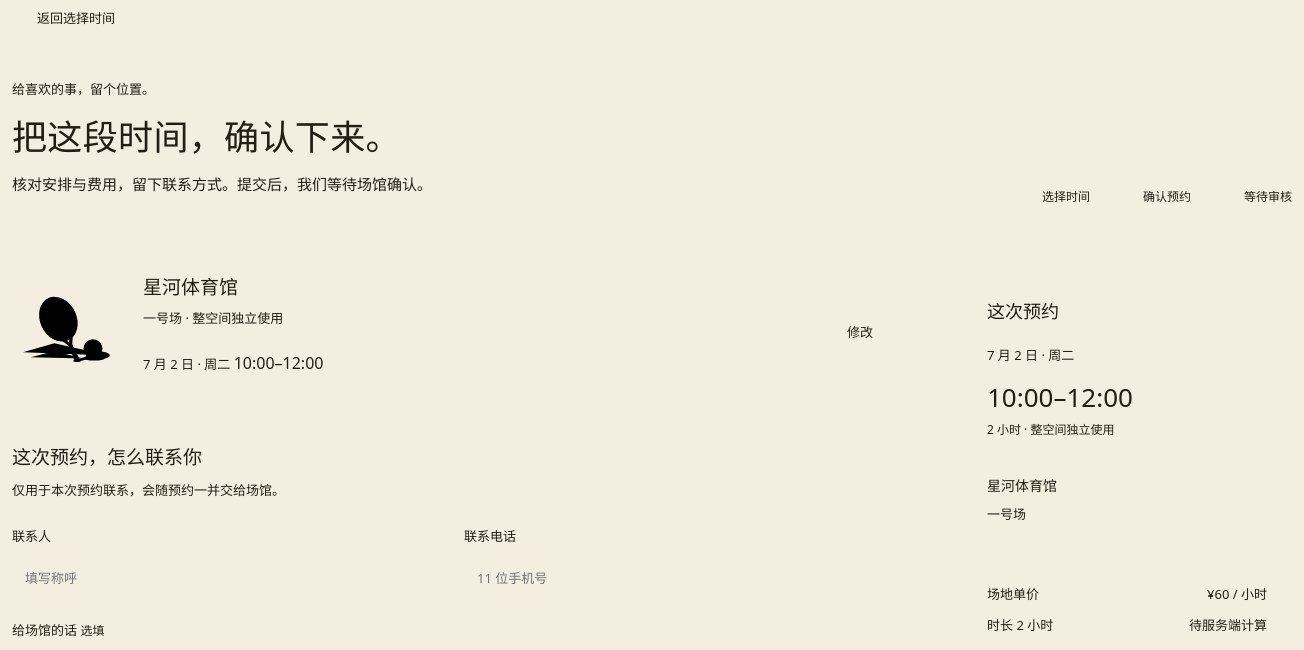
Test: ReservationConfirmView confirmation flow › waits for a valid contact before asking the server for the price
Type "王小明" into the field with test id "contact-name".
click(229, 578); type("王小明")  # box [12,555,446,601]
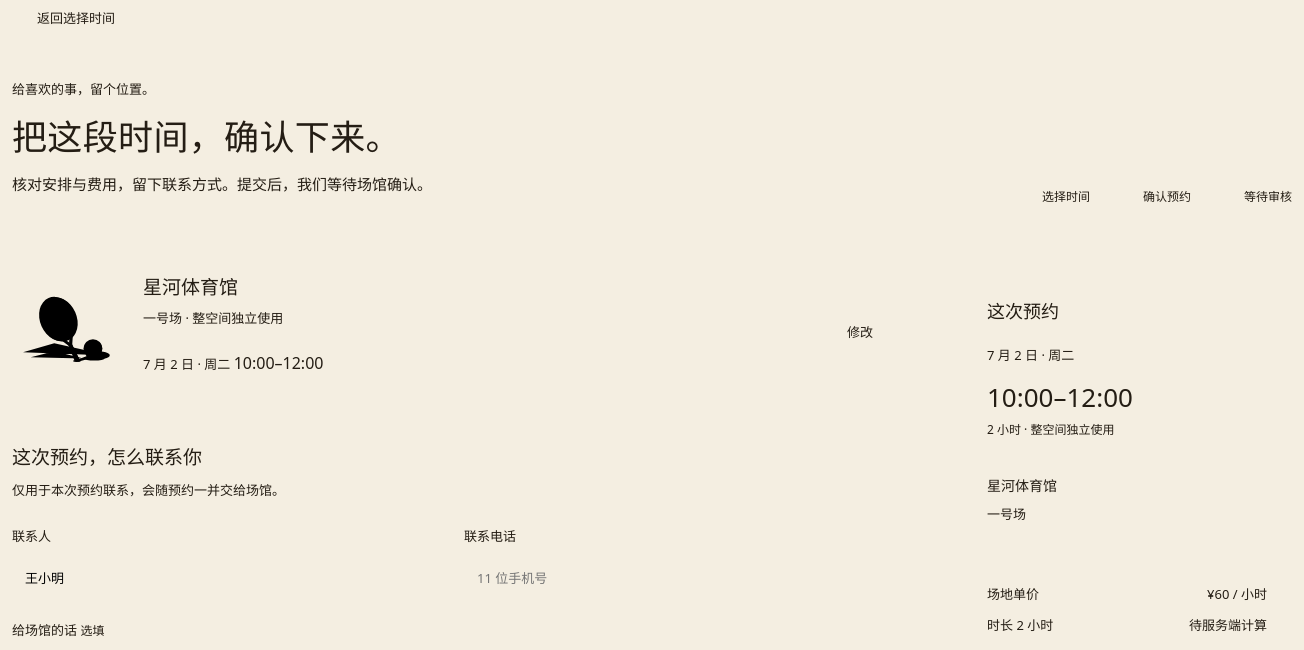
Type "13800000000" into the field with test id "contact-phone".
click(681, 578); type("13800000000")  # box [464,555,898,601]
(page scrolled)
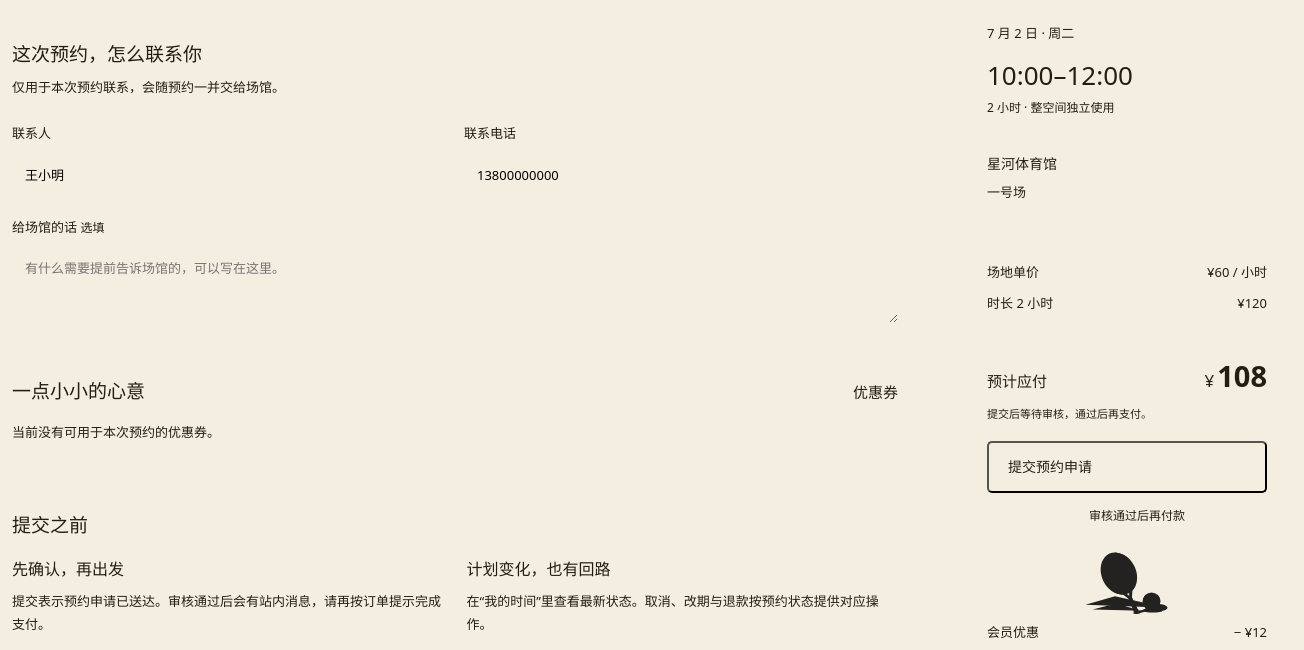
Check: the button with test id "summary-submit" reads "提交预约申请", box [987,440,1267,492]
Check: the button with test id "summary-submit" is enabled, box [987,440,1267,492]
